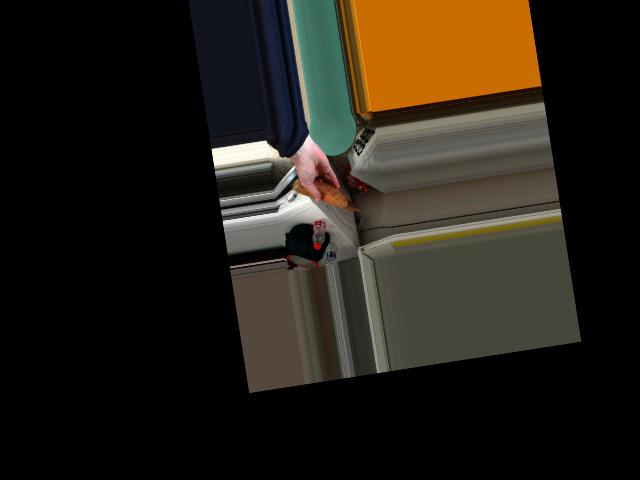sweet_potato: (306, 176, 344, 214)
